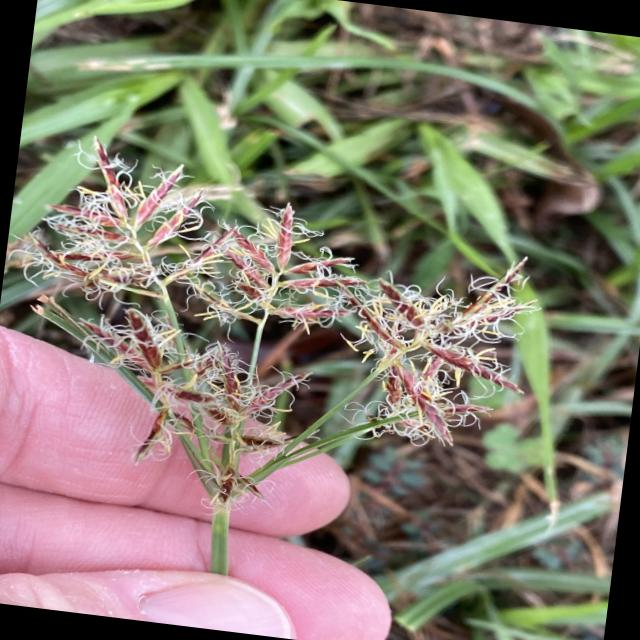cyperus: (0, 127, 557, 540)
